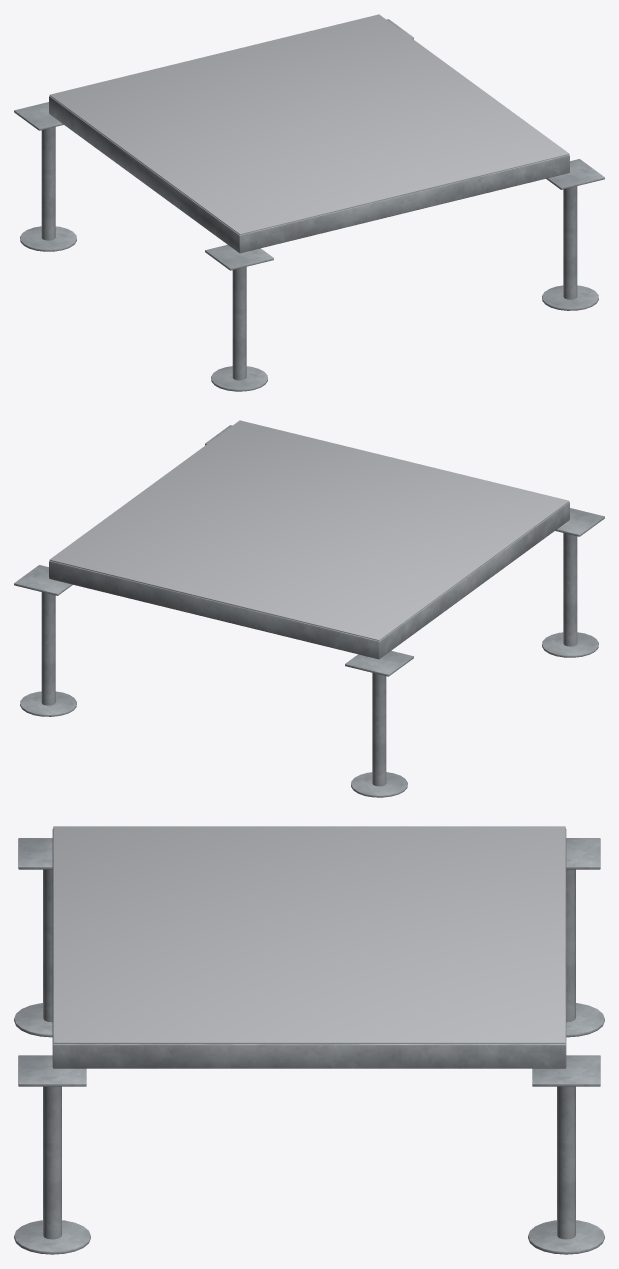
Rendered from PIS-OUT-006.glb.
The picture shows the model from 3 angles, top to bottom: view 1: azimuth 30°, elevation 25°; view 2: azimuth 150°, elevation 25°; view 3: azimuth 270°, elevation 25°; orthographic projection. The views are drawn at different scales.
Parts seen in each view (by area): view 1: PIS-OUT-006_topo, PIS-OUT-006_placa, PIS-OUT-006_haste1, PIS-OUT-006_haste3, PIS-OUT-006_haste0, PIS-OUT-006_base1, PIS-OUT-006_base3, PIS-OUT-006_base0, PIS-OUT-006_cabeca0, PIS-OUT-006_cabeca1, PIS-OUT-006_cabeca3; view 2: PIS-OUT-006_topo, PIS-OUT-006_placa, PIS-OUT-006_haste0, PIS-OUT-006_haste2, PIS-OUT-006_haste3, PIS-OUT-006_base2, PIS-OUT-006_base0, PIS-OUT-006_base3, PIS-OUT-006_cabeca3, PIS-OUT-006_cabeca2, PIS-OUT-006_cabeca0; view 3: PIS-OUT-006_topo, PIS-OUT-006_placa, PIS-OUT-006_haste1, PIS-OUT-006_haste2, PIS-OUT-006_base1, PIS-OUT-006_base2, PIS-OUT-006_cabeca1, PIS-OUT-006_cabeca2, PIS-OUT-006_haste0, PIS-OUT-006_haste3, PIS-OUT-006_cabeca0, PIS-OUT-006_cabeca3 (+2 smaller).
Part boxes in pixels (box(x1,y1,x2,y2)): PIS-OUT-006_topo: box(49, 14, 569, 234); PIS-OUT-006_placa: box(49, 96, 569, 253); PIS-OUT-006_haste1: box(563, 186, 577, 299); PIS-OUT-006_haste3: box(41, 127, 55, 240); PIS-OUT-006_haste0: box(232, 267, 246, 380); PIS-OUT-006_base1: box(542, 285, 598, 310); PIS-OUT-006_base3: box(20, 226, 76, 251); PIS-OUT-006_base0: box(211, 366, 267, 391); PIS-OUT-006_cabeca0: box(205, 244, 273, 270); PIS-OUT-006_cabeca1: box(546, 159, 604, 189); PIS-OUT-006_cabeca3: box(14, 102, 63, 130); PIS-OUT-006_topo: box(49, 420, 569, 640); PIS-OUT-006_placa: box(49, 502, 569, 659); PIS-OUT-006_haste0: box(563, 533, 577, 646); PIS-OUT-006_haste2: box(41, 592, 55, 705); PIS-OUT-006_haste3: box(372, 673, 386, 786); PIS-OUT-006_base2: box(20, 691, 76, 716); PIS-OUT-006_base0: box(542, 632, 598, 657); PIS-OUT-006_base3: box(351, 772, 407, 797); PIS-OUT-006_cabeca3: box(345, 650, 413, 676); PIS-OUT-006_cabeca2: box(14, 565, 72, 595); PIS-OUT-006_cabeca0: box(555, 508, 604, 536); PIS-OUT-006_topo: box(53, 826, 565, 1043); PIS-OUT-006_placa: box(52, 828, 566, 1068); PIS-OUT-006_haste1: box(43, 1086, 61, 1239); PIS-OUT-006_haste2: box(557, 1086, 575, 1239); PIS-OUT-006_base1: box(14, 1220, 90, 1254); PIS-OUT-006_base2: box(528, 1220, 604, 1254); PIS-OUT-006_cabeca1: box(18, 1055, 86, 1086); PIS-OUT-006_cabeca2: box(532, 1055, 600, 1086); PIS-OUT-006_haste0: box(43, 869, 52, 1022); PIS-OUT-006_haste3: box(566, 869, 575, 1022); PIS-OUT-006_cabeca0: box(18, 838, 52, 869); PIS-OUT-006_cabeca3: box(566, 838, 600, 869).
Size of the model in its own units: 0.69 by 0.252 by 0.69.
Materials: 2 (1 with a texture image).
